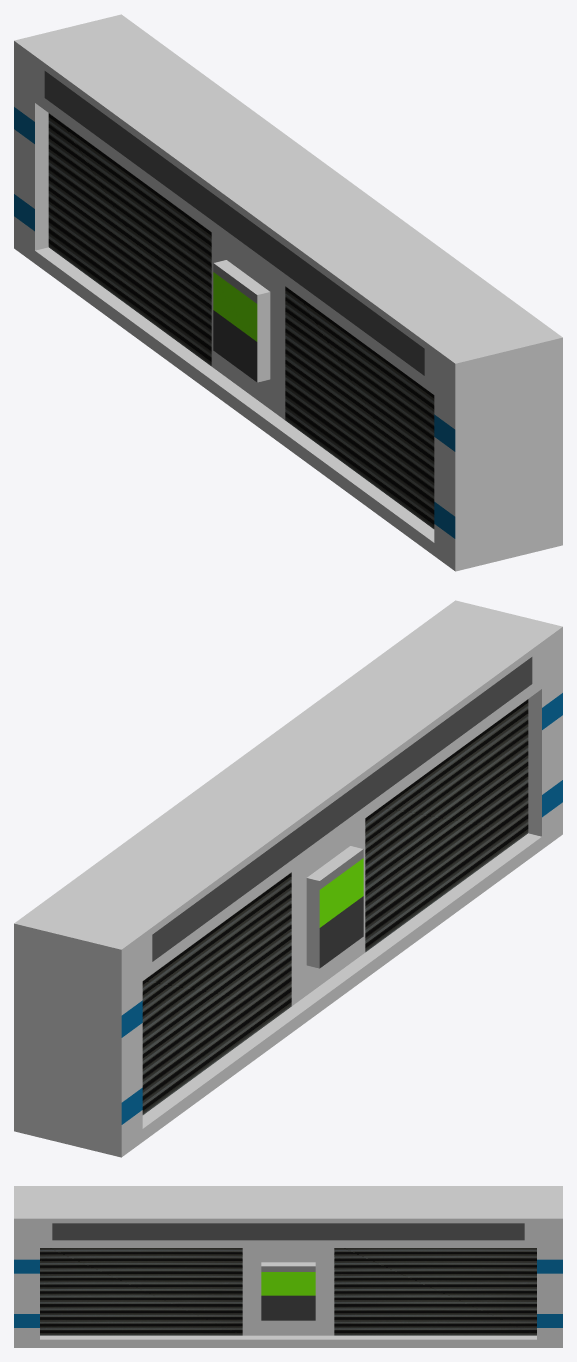
Rendered from BG_Platform_-_ventilation 1.fbx.
3 views of the same model, one above another, from view 1: azimuth 30°, elevation 25°; view 2: azimuth 150°, elevation 25°; view 3: azimuth 270°, elevation 25° (orthographic). The views are drawn at different scales.
Parts seen in each view (by area): view 1: Cube; view 2: Cube; view 3: Cube.
Part boxes in pixels (x1,y1,x2,y2): Cube: (14, 14, 562, 571); Cube: (14, 600, 562, 1157); Cube: (14, 1186, 562, 1347).
Size of the model in its own units: 200 by 369 by 1422.
